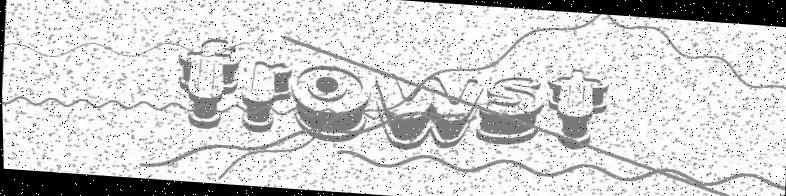f: (171, 32, 242, 132)
o: (287, 56, 372, 145)
r: (236, 58, 295, 136)
s: (473, 70, 544, 148)
t: (539, 64, 613, 153)
w: (364, 69, 486, 155)
